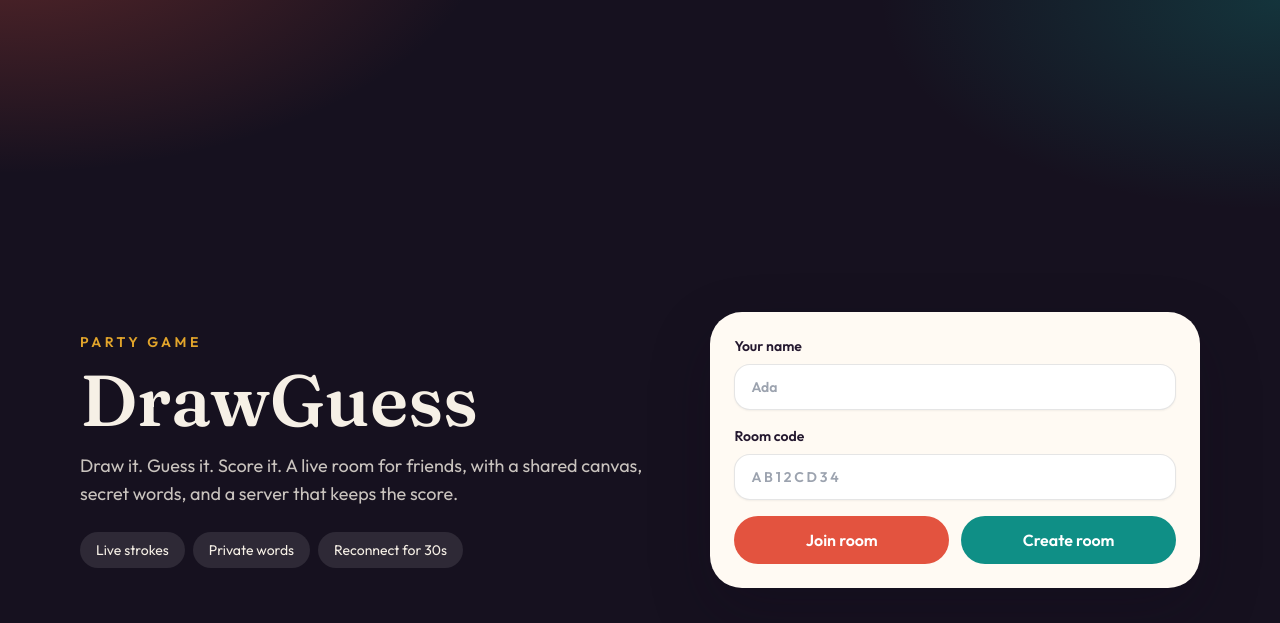
Test case: interface › validates the landing form
Click the button "Join room" at {"x": 842, "y": 540}, box [734,516,949,564]
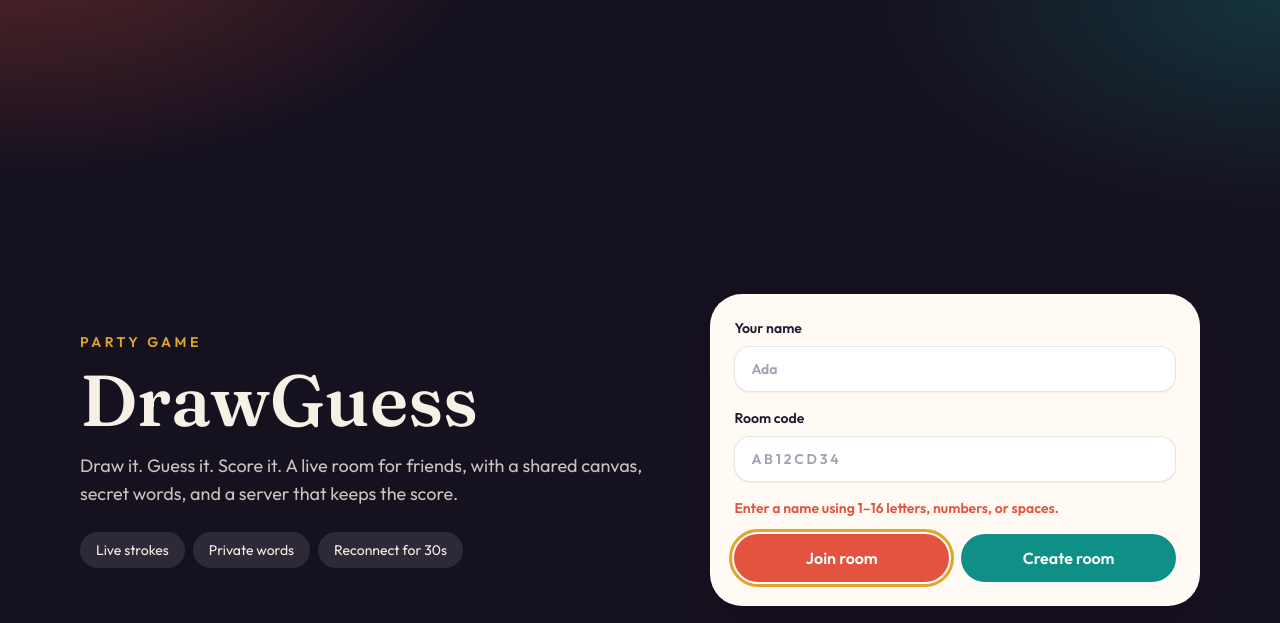
Check: the message shows "name", box [734,499,1059,517]
